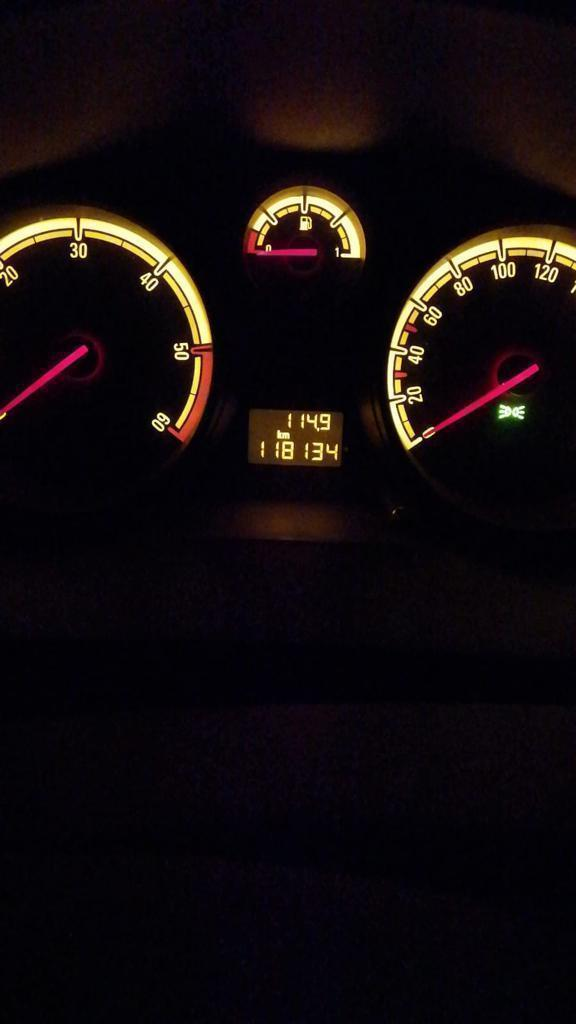,: (316, 426, 319, 433)
1: (274, 440, 280, 458), (304, 441, 309, 461), (260, 439, 265, 459), (287, 412, 292, 429), (300, 412, 304, 429)
3: (311, 441, 323, 461)
4: (325, 442, 338, 461), (306, 412, 317, 428)
8: (281, 440, 294, 460)
9: (319, 412, 330, 430)
X: (282, 431, 291, 439), (276, 429, 282, 439)
odometer: (245, 407, 345, 470)
